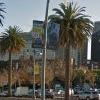Palm tree: (53, 2, 94, 89)
